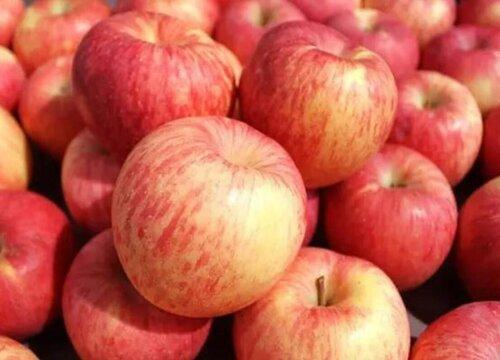apple: (115, 117, 306, 316), (238, 21, 397, 188), (70, 9, 235, 145), (59, 228, 215, 360), (235, 248, 415, 358), (326, 144, 456, 283), (1, 188, 72, 342), (388, 72, 483, 184), (11, 1, 111, 70), (326, 10, 422, 76), (214, 1, 306, 58)
